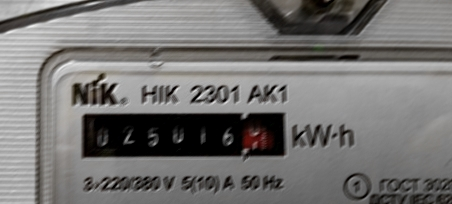0: (171, 121, 185, 144), (95, 124, 108, 146), (247, 116, 259, 136)
1: (196, 120, 207, 145), (249, 139, 257, 150)
2: (121, 121, 134, 144)
5: (146, 124, 157, 145)
6: (220, 123, 233, 148)
screen: (72, 102, 294, 164)
